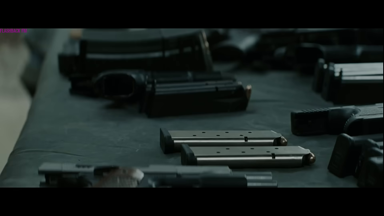firearm: (287, 99, 383, 188), (35, 158, 281, 189), (154, 126, 315, 164), (141, 66, 254, 117)
